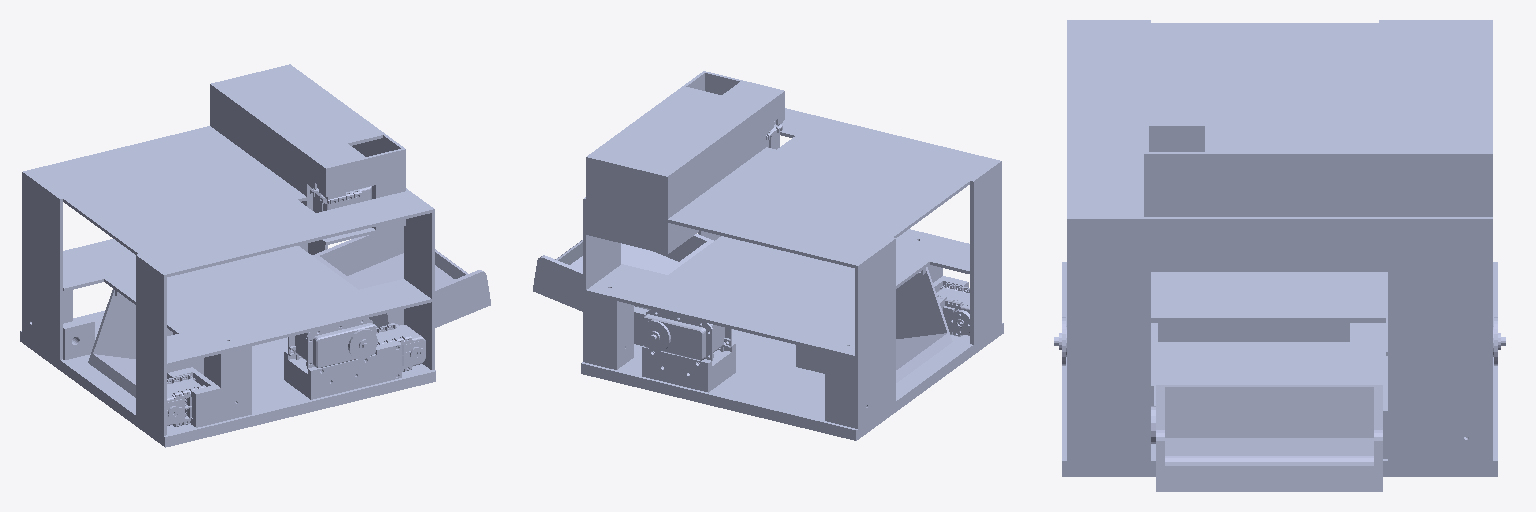
URDF robot description (어셈블리1 - 복사본):
<?xml version="1.0" encoding="utf-8"?>
<!-- This URDF was automatically created by SolidWorks to URDF Exporter! Originally created by [author] ([email redacted]) 
     Commit Version: 1.6.0-1-g15f4949  Build Version: 1.6.7594.29634
     For more information, please see http://wiki.ros.org/sw_urdf_exporter -->
<robot
  name="어셈블리1 - 복사본">
  <link
    name="base_link">
    <inertial>
      <origin
        xyz="-0.11505807240274 0.0652881467782363 -0.125474366192253"
        rpy="0 0 0" />
      <mass
        value="2.1954206597703" />
      <inertia
        ixx="0.00802020985051211"
        ixy="-2.86442962883425E-05"
        ixz="-0.000329601691758864"
        iyy="0.0126483171821429"
        iyz="-0.000175205741368237"
        izz="0.00579888032223391" />
    </inertial>
    <visual>
      <origin
        xyz="0 0 0"
        rpy="0 0 0" />
      <geometry>
        <mesh
          filename="package://어셈블리1 - 복사본/meshes/base_link.STL" />
      </geometry>
      <material
        name="">
        <color
          rgba="0.792156862745098 0.819607843137255 0.933333333333333 1" />
      </material>
    </visual>
    <collision>
      <origin
        xyz="0 0 0"
        rpy="0 0 0" />
      <geometry>
        <mesh
          filename="package://어셈블리1 - 복사본/meshes/base_link.STL" />
      </geometry>
    </collision>
  </link>
  <link
    name="Link-front">
    <inertial>
      <origin
        xyz="0.04 0.023612 -0.049877"
        rpy="0 0 0" />
      <mass
        value="0.27389" />
      <inertia
        ixx="0.00033506"
        ixy="2.9517E-20"
        ixz="2.6484E-20"
        iyy="0.00079692"
        iyz="6.5093E-05"
        izz="0.00055497" />
    </inertial>
    <visual>
      <origin
        xyz="0 0 0"
        rpy="0 0 0" />
      <geometry>
        <mesh
          filename="package://어셈블리1 - 복사본/meshes/Link-front.STL" />
      </geometry>
      <material
        name="">
        <color
          rgba="0.79216 0.81961 0.93333 1" />
      </material>
    </visual>
    <collision>
      <origin
        xyz="0 0 0"
        rpy="0 0 0" />
      <geometry>
        <mesh
          filename="package://어셈블리1 - 복사본/meshes/Link-front.STL" />
      </geometry>
    </collision>
  </link>
  <joint
    name="front"
    type="revolute">
    <origin
      xyz="-0.25413 0.259 0.030639"
      rpy="-1.9533 0 -1.5708" />
    <parent
      link="base_link" />
    <child
      link="Link-front" />
    <axis
      xyz="0 0 0" />
    <limit
      lower="0"
      upper="0"
      effort="0"
      velocity="0" />
  </joint>
  <link
    name="link_behind">
    <inertial>
      <origin
        xyz="0.00073571 0.0024924 -0.010838"
        rpy="0 0 0" />
      <mass
        value="0.12367" />
      <inertia
        ixx="0.00015412"
        ixy="-4.0037E-06"
        ixz="9.3562E-07"
        iyy="0.00027232"
        iyz="3.3496E-05"
        izz="0.00038406" />
    </inertial>
    <visual>
      <origin
        xyz="0 0 0"
        rpy="0 0 0" />
      <geometry>
        <mesh
          filename="package://어셈블리1 - 복사본/meshes/link_behind.STL" />
      </geometry>
      <material
        name="">
        <color
          rgba="0.79216 0.81961 0.93333 1" />
      </material>
    </visual>
    <collision>
      <origin
        xyz="0 0 0"
        rpy="0 0 0" />
      <geometry>
        <mesh
          filename="package://어셈블리1 - 복사본/meshes/link_behind.STL" />
      </geometry>
    </collision>
  </link>
  <joint
    name="behind"
    type="revolute">
    <origin
      xyz="0.031278 0.119 0.048921"
      rpy="-2.2515 0 -1.5708" />
    <parent
      link="base_link" />
    <child
      link="link_behind" />
    <axis
      xyz="0 0 0" />
    <limit
      lower="0"
      upper="0"
      effort="0"
      velocity="0" />
  </joint>
  <link
    name="link-wheel-left">
    <inertial>
      <origin
        xyz="1.3878E-17 1.3878E-17 0.014924"
        rpy="0 0 0" />
      <mass
        value="0.44033" />
      <inertia
        ixx="0.00055195"
        ixy="0"
        ixz="2.5933E-20"
        iyy="0.00055195"
        iyz="1.6085E-19"
        izz="0.0010399" />
    </inertial>
    <visual>
      <origin
        xyz="0 0 0"
        rpy="0 0 0" />
      <geometry>
        <mesh
          filename="package://어셈블리1 - 복사본/meshes/link-wheel-left.STL" />
      </geometry>
      <material
        name="">
        <color
          rgba="0.79216 0.81961 0.93333 1" />
      </material>
    </visual>
    <collision>
      <origin
        xyz="0 0 0"
        rpy="0 0 0" />
      <geometry>
        <mesh
          filename="package://어셈블리1 - 복사본/meshes/link-wheel-left.STL" />
      </geometry>
    </collision>
  </link>
  <joint
    name="left-wheel"
    type="continuous">
    <origin
      xyz="-0.0725 -0.044 0.0521"
      rpy="-1.5708 0.15964 0" />
    <parent
      link="base_link" />
    <child
      link="link-wheel-left" />
    <axis
      xyz="0 0 0" />
  </joint>
  <link
    name="link-wheel-right">
    <inertial>
      <origin
        xyz="-1.3878E-17 -6.9389E-18 0.014924"
        rpy="0 0 0" />
      <mass
        value="0.44033" />
      <inertia
        ixx="0.00055195"
        ixy="-1.3553E-20"
        ixz="-6.1375E-21"
        iyy="0.00055195"
        iyz="-2.1709E-22"
        izz="0.0010399" />
    </inertial>
    <visual>
      <origin
        xyz="0 0 0"
        rpy="0 0 0" />
      <geometry>
        <mesh
          filename="package://어셈블리1 - 복사본/meshes/link-wheel-right.STL" />
      </geometry>
      <material
        name="">
        <color
          rgba="0.79216 0.81961 0.93333 1" />
      </material>
    </visual>
    <collision>
      <origin
        xyz="0 0 0"
        rpy="0 0 0" />
      <geometry>
        <mesh
          filename="package://어셈블리1 - 복사본/meshes/link-wheel-right.STL" />
      </geometry>
    </collision>
  </link>
  <joint
    name="right-wheel"
    type="continuous">
    <origin
      xyz="-0.0725 0.294 0.0521"
      rpy="1.5708 0.26474 0" />
    <parent
      link="base_link" />
    <child
      link="link-wheel-right" />
    <axis
      xyz="0 0 0" />
  </joint>
  <link
    name="zed">
    <inertial>
      <origin
        xyz="2.4562E-10 0 0.0165"
        rpy="0 0 0" />
      <mass
        value="0.16688" />
      <inertia
        ixx="2.7222E-05"
        ixy="-1.4229E-19"
        ixz="5.6838E-12"
        iyy="0.00041211"
        iyz="-4.7478E-21"
        izz="0.00040904" />
    </inertial>
    <visual>
      <origin
        xyz="0 0 0"
        rpy="0 0 0" />
      <geometry>
        <mesh
          filename="package://어셈블리1 - 복사본/meshes/zed.STL" />
      </geometry>
      <material
        name="">
        <color
          rgba="0.79216 0.81961 0.93333 1" />
      </material>
    </visual>
    <collision>
      <origin
        xyz="0 0 0"
        rpy="0 0 0" />
      <geometry>
        <mesh
          filename="package://어셈블리1 - 복사본/meshes/zed.STL" />
      </geometry>
    </collision>
  </link>
  <joint
    name="zed"
    type="fixed">
    <origin
      xyz="-0.22924 0.12351 0.178"
      rpy="-1.5708 0 1.5708" />
    <parent
      link="base_link" />
    <child
      link="zed" />
    <axis
      xyz="0 0 0" />
  </joint>
  <link
    name="hokuyo">
    <inertial>
      <origin
        xyz="0 0 0"
        rpy="0 0 0" />
      <mass
        value="0" />
      <inertia
        ixx="0"
        ixy="0"
        ixz="0"
        iyy="0"
        iyz="0"
        izz="0" />
    </inertial>
    <visual>
      <origin
        xyz="0 0 0"
        rpy="0 0 0" />
      <geometry>
        <mesh
          filename="package://어셈블리1 - 복사본/meshes/hokuyo.STL" />
      </geometry>
      <material
        name="">
        <color
          rgba="1 1 1 1" />
      </material>
    </visual>
    <collision>
      <origin
        xyz="0 0 0"
        rpy="0 0 0" />
      <geometry>
        <mesh
          filename="package://어셈블리1 - 복사본/meshes/hokuyo.STL" />
      </geometry>
    </collision>
  </link>
  <joint
    name="hokuyo"
    type="fixed">
    <origin
      xyz="-0.135 0.125 0.204"
      rpy="3.1416 0 0" />
    <parent
      link="base_link" />
    <child
      link="hokuyo" />
    <axis
      xyz="0 0 0" />
  </joint>
</robot>

--- Render facts (derived) ---
The picture shows the robot from 3 angles, left to right: view 1: azimuth 30°, elevation 25°; view 2: azimuth 150°, elevation 25°; view 3: azimuth 270°, elevation 25°; orthographic projection.
Model 어셈블리1 - 복사본 with 7 links and 6 joints (2 revolute, 2 continuous, 2 fixed), rooted at base_link, posed all joints at 0.
Visible links, largest first — view 1: base_link, link_behind; view 2: base_link, link_behind; view 3: base_link, link_behind.
Link boxes in pixels (<box>): base_link: <box>20,64,435,447</box>; link_behind: <box>312,226,490,327</box>; base_link: <box>581,71,1003,440</box>; link_behind: <box>533,234,713,311</box>; base_link: <box>1054,20,1505,476</box>; link_behind: <box>1151,385,1382,491</box>.
Size in the robot's own frame: 0.356 by 0.2596 by 0.224 metres.
Meshes: 7 distinct files referenced, 2 mesh visuals loaded (2 binary STL); not drawn: 5 (reference not matched to a file when rendering).